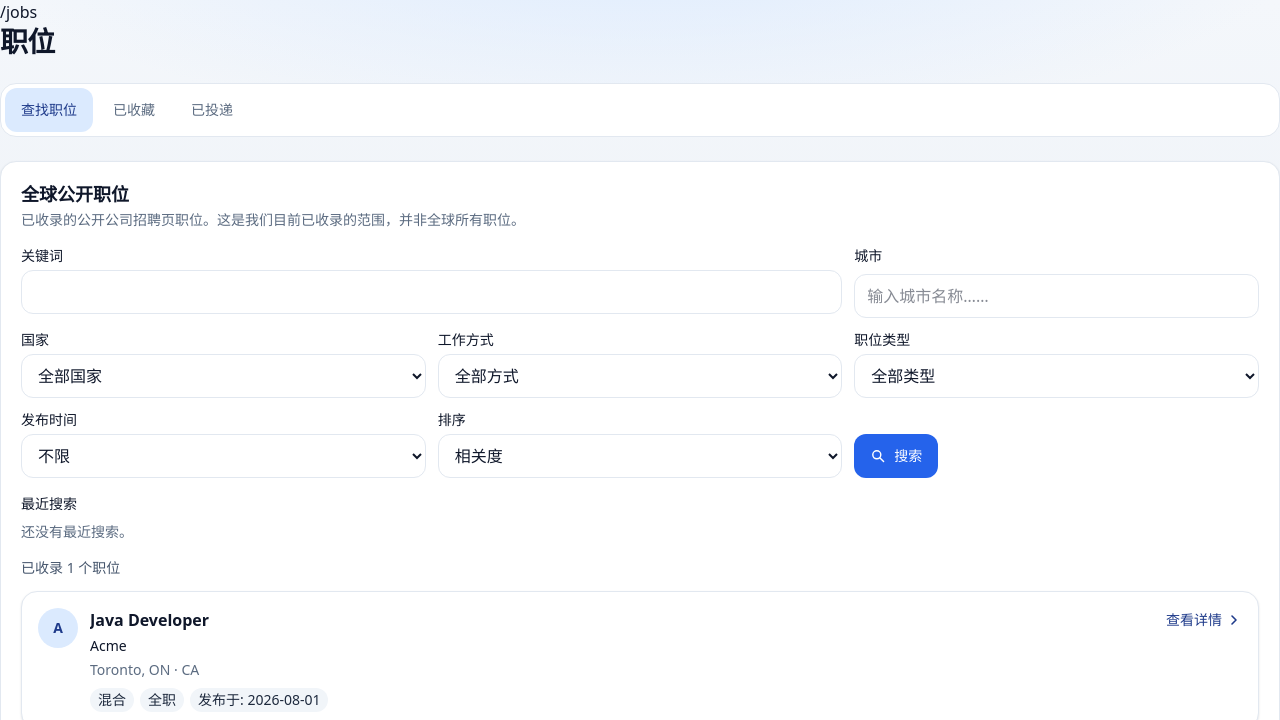
JobsPage catalog search › clicking 已收藏 writes ?tab=favorites so a refresh can restore that tab
Click the tab "已收藏" at (134, 110), box [97,88,171,132]
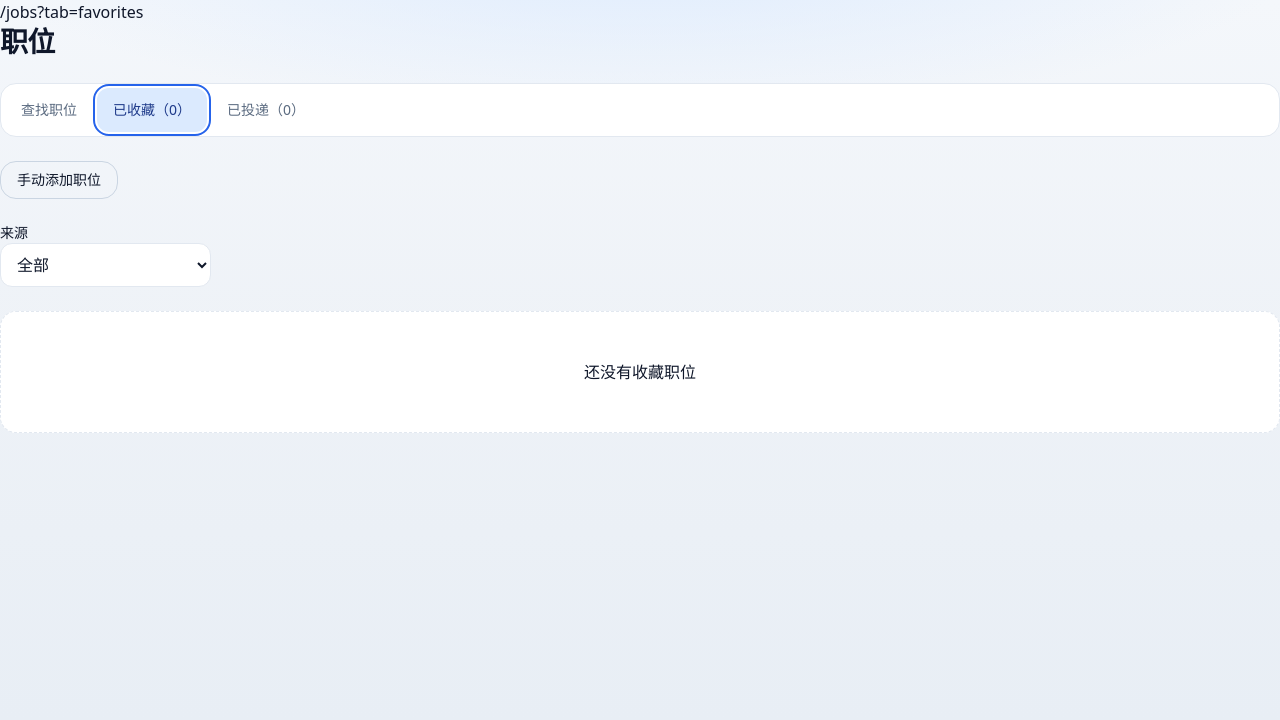
Check: the text with test id "current-location" reads "/jobs?tab=favorites", box [0,1,144,23]
